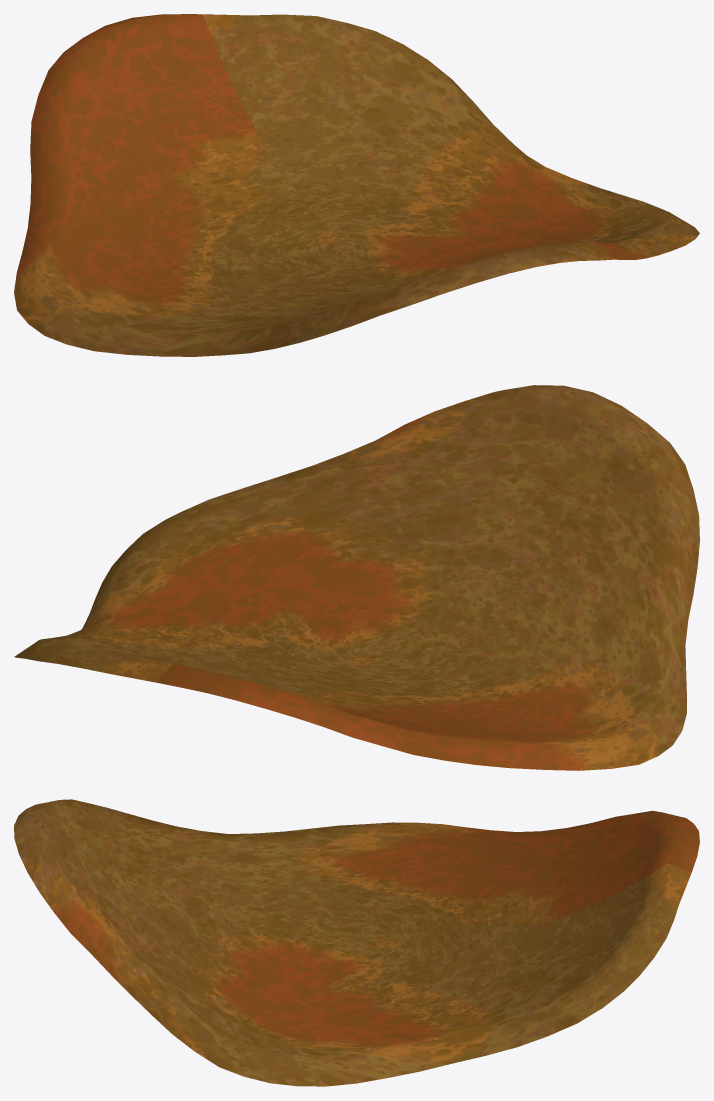
File: Medium Rust Puddle.fbx
The picture shows the model from 3 angles, top to bottom: view 1: azimuth 30°, elevation 25°; view 2: azimuth 150°, elevation 25°; view 3: azimuth 270°, elevation 25°; orthographic projection. The views are drawn at different scales.
Parts seen in each view (by area): view 1: Medium; view 2: Medium; view 3: Medium.
Part boxes in pixels (x1,y1,x2,y2): Medium: (14, 14, 699, 356); Medium: (14, 385, 699, 770); Medium: (14, 799, 699, 1086).
Bounding box in the file's own units: 29.98 × 7.08 × 33.21.
Materials: 1 (1 with a texture image).
